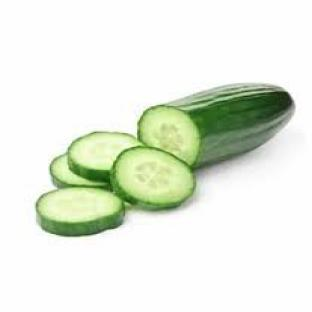Cucumber: (139, 84, 293, 167), (112, 146, 195, 209), (37, 187, 125, 236), (68, 132, 141, 181), (50, 155, 110, 189)
